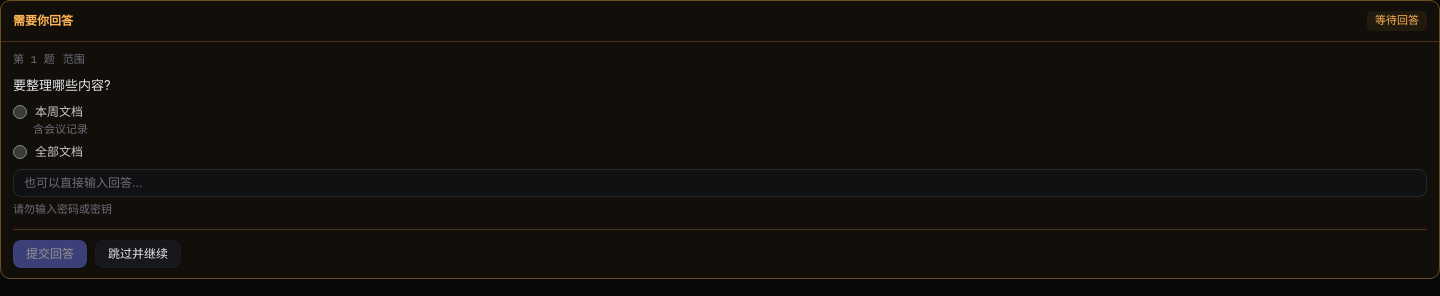
Test case: QuestionCard › 跳过提问提交 decline 并显示锁定文案
Click the button "跳过并继续".
click(138, 254)  # box [95,240,181,268]
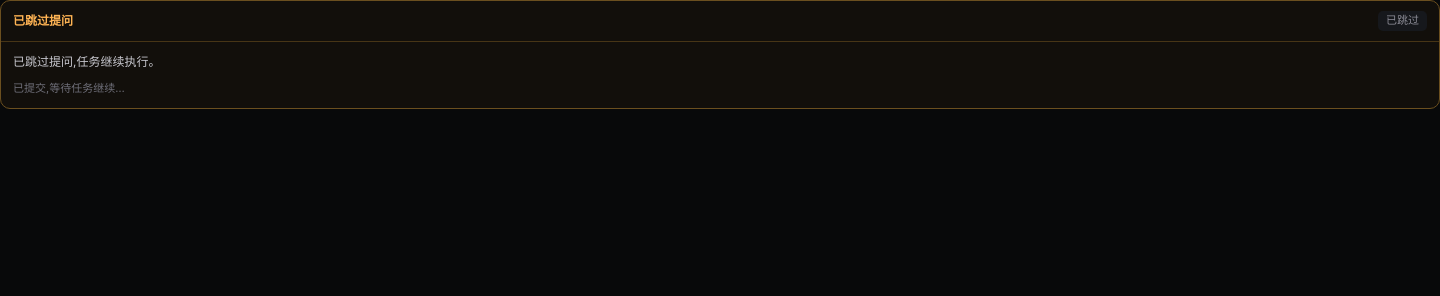
Expected: the text "已跳过提问" is shown, [13,12,73,30]
Expected: the text "已跳过提问,任务继续执行。" is shown, [13,54,160,69]
